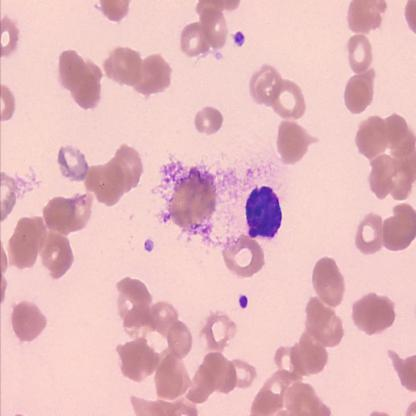Basophil: (242, 183, 284, 240)
